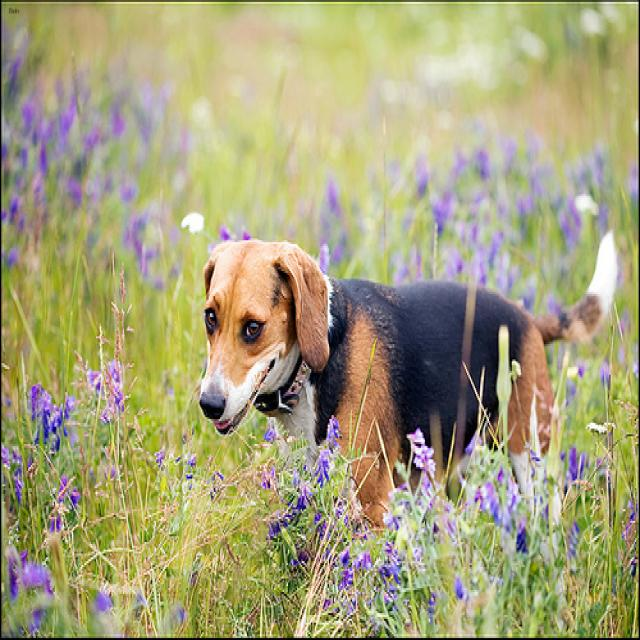dog-beagle: (195, 223, 625, 538)
